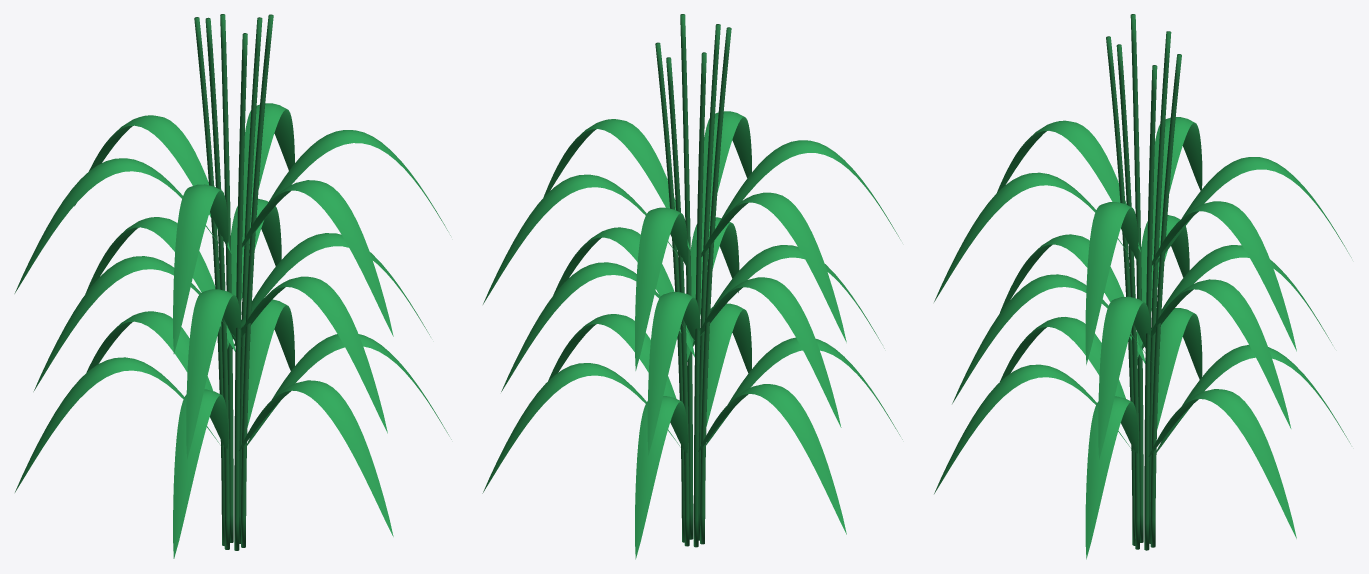
File: SM_BFF_RiceStalk.fbx
3 renders of one model, left to right at view 1: azimuth 30°, elevation 25°; view 2: azimuth 150°, elevation 25°; view 3: azimuth 270°, elevation 25°, orthographic. The views are drawn at different scales.
Parts seen in each view (by area): view 1: SM_BFF_RiceStalk; view 2: SM_BFF_RiceStalk; view 3: SM_BFF_RiceStalk.
Boxes of the visible parts, left/top/right/bottom form: SM_BFF_RiceStalk: left=14, top=14, right=451, bottom=558; SM_BFF_RiceStalk: left=482, top=14, right=902, bottom=559; SM_BFF_RiceStalk: left=934, top=14, right=1351, bottom=559.
Size of the model in its own units: 54.12 by 54.29 by 73.41.
